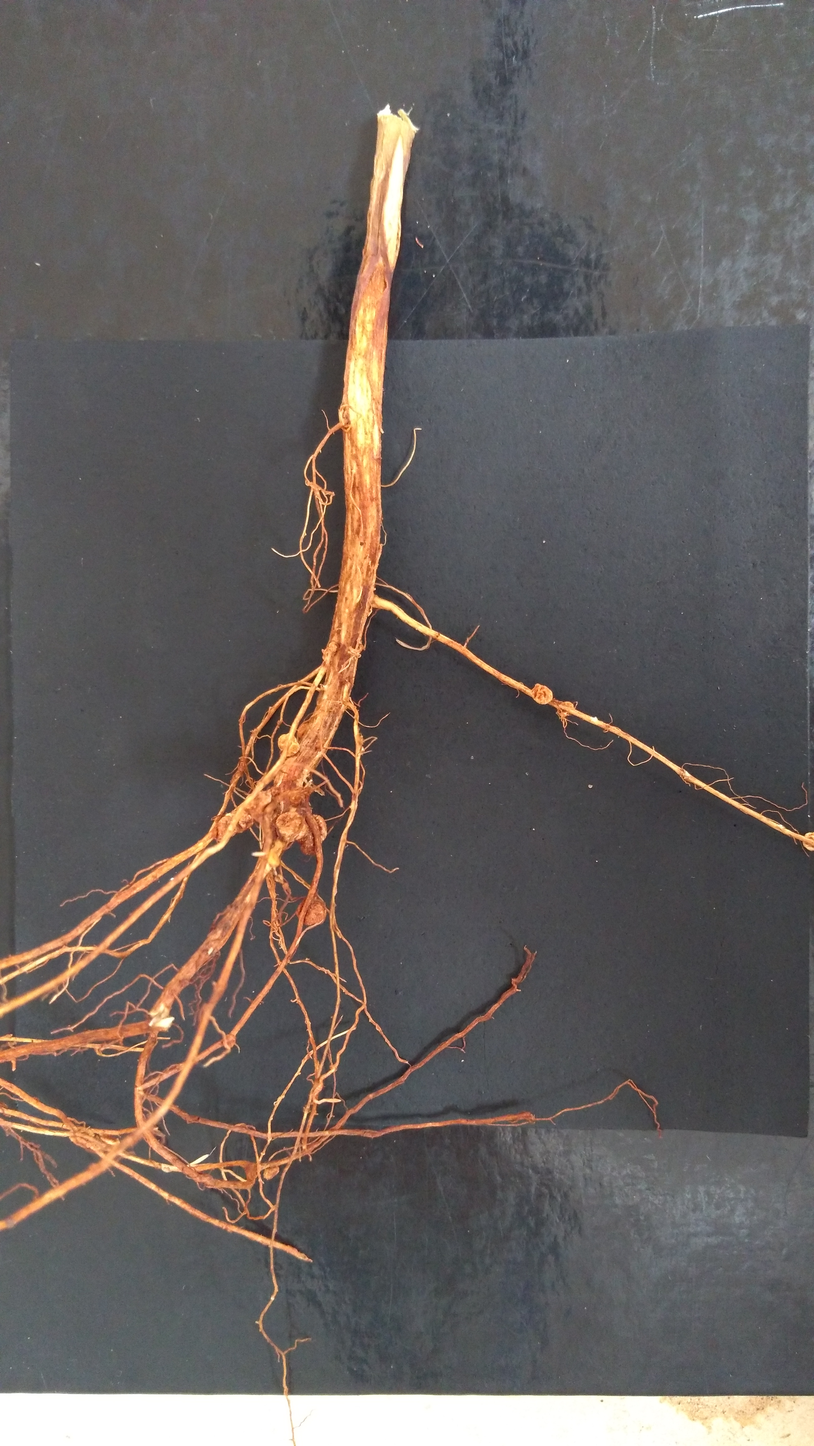nodule: (246, 787, 285, 823), (299, 813, 327, 856), (274, 811, 309, 843), (296, 895, 326, 926), (68, 1125, 96, 1151), (277, 732, 301, 758), (215, 814, 237, 841), (234, 805, 254, 834), (531, 683, 553, 705), (322, 641, 337, 664), (86, 1133, 105, 1151), (557, 701, 576, 718), (262, 1164, 280, 1180), (296, 719, 309, 740), (289, 786, 303, 804), (100, 1134, 121, 1146), (222, 1033, 237, 1048), (802, 831, 813, 851), (357, 643, 364, 651), (277, 720, 282, 725)
